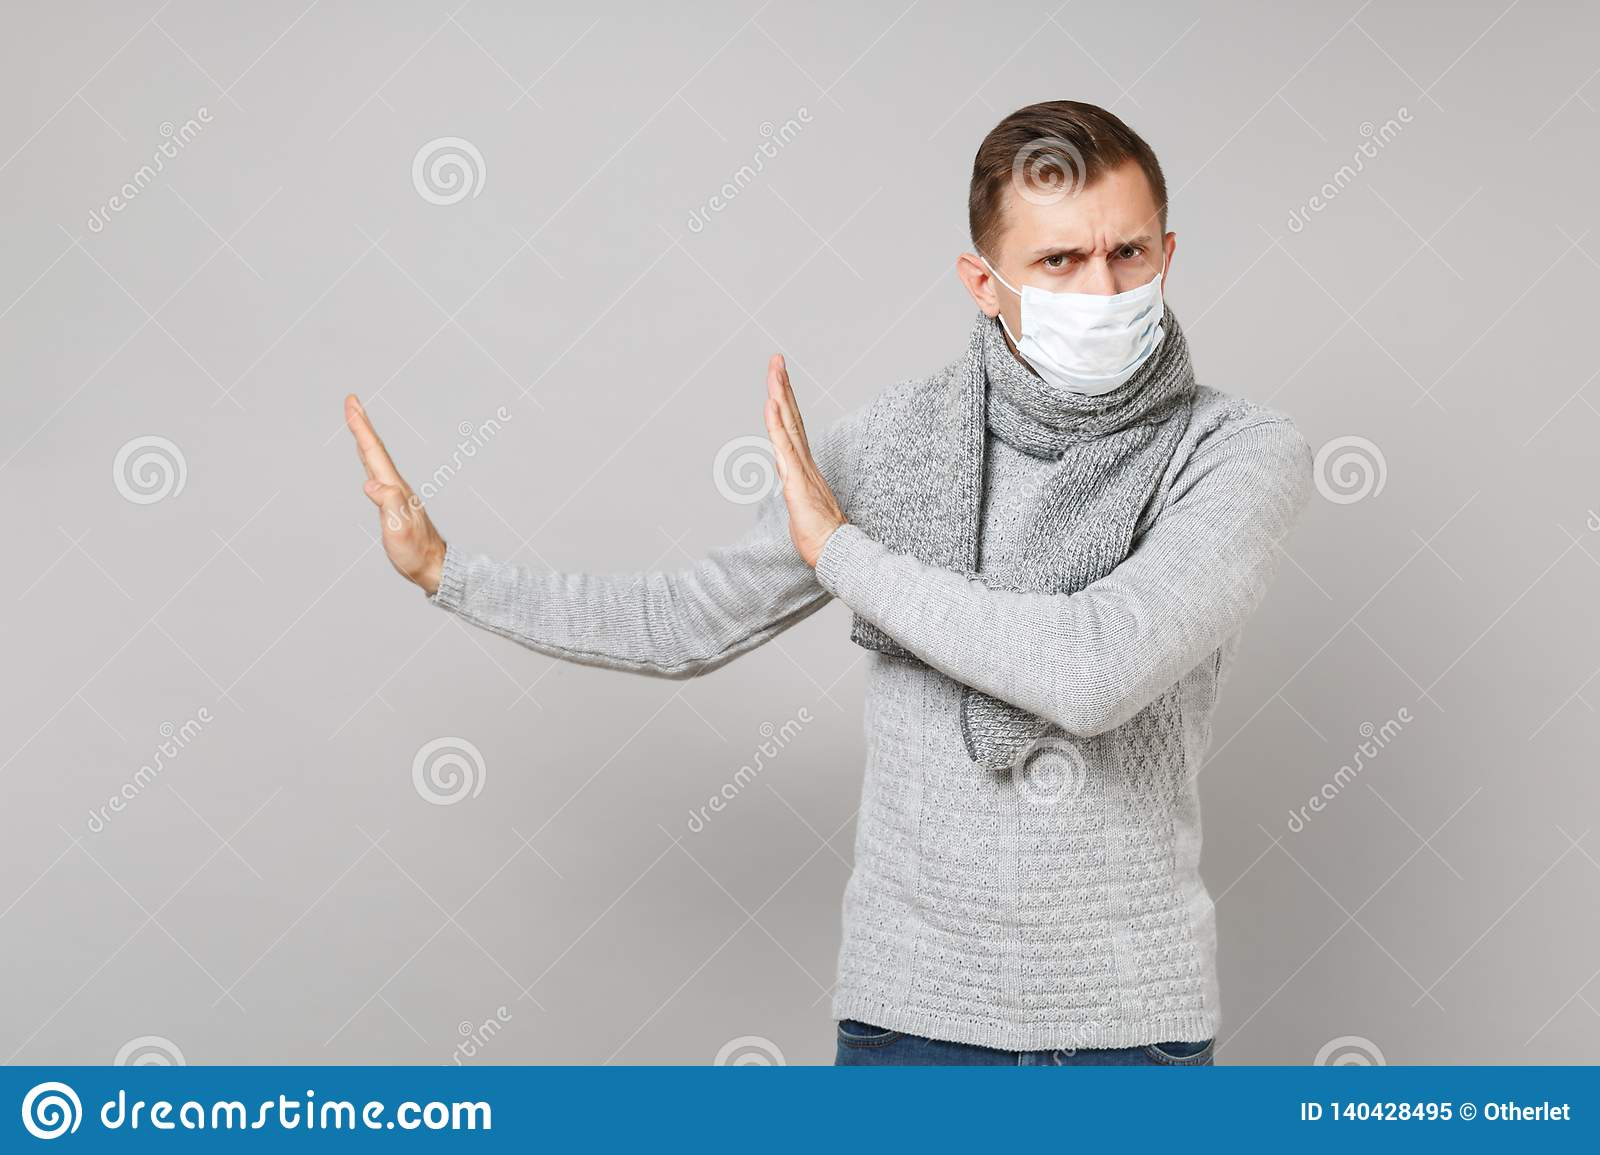mask: (1012, 276, 1165, 396)
